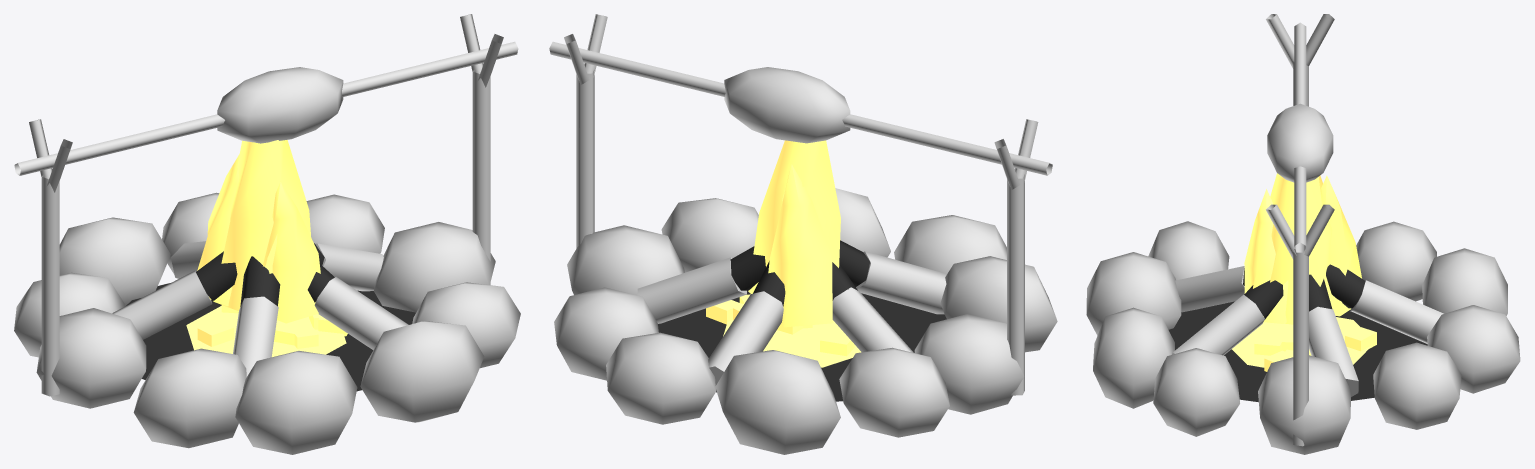
File: campfire.glb
3 views of the same model, side by side, from view 1: azimuth 30°, elevation 25°; view 2: azimuth 150°, elevation 25°; view 3: azimuth 270°, elevation 25° (orthographic). The views are drawn at different scales.
Visible parts, largest first — view 1: campfire, campfire_flames; view 2: campfire, campfire_flames; view 3: campfire, campfire_flames.
Boxes of the visible parts, left/top/right/bottom form: campfire: left=14, top=14, right=520, bottom=454; campfire_flames: left=197, top=140, right=320, bottom=323; campfire: left=549, top=14, right=1057, bottom=454; campfire_flames: left=748, top=140, right=840, bottom=327; campfire: left=1086, top=14, right=1520, bottom=454; campfire_flames: left=1244, top=173, right=1361, bottom=324.
Size of the model in its own units: 1.8 by 1.01 by 1.5.
